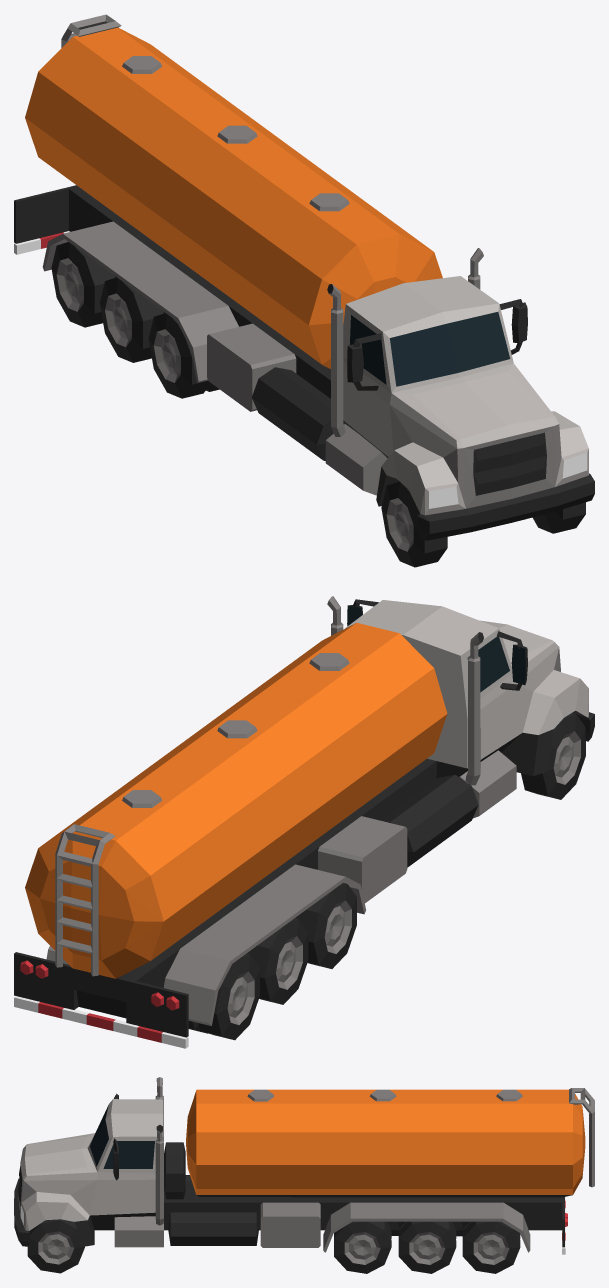
The model's file is car-truck-tanker.glb.
The picture shows the model from 3 angles, top to bottom: view 1: azimuth 30°, elevation 25°; view 2: azimuth 150°, elevation 25°; view 3: azimuth 270°, elevation 25°; orthographic projection. The views are drawn at different scales.
Parts seen in each view (by area): view 1: car-truck-tanker-base, car-truck-tanker-wheel_BR2, car-truck-tanker-wheel_BR3, car-truck-tanker-wheel_BR1, car-truck-tanker-wheel_FR, car-truck-tanker-wheel_FL; view 2: car-truck-tanker-base, car-truck-tanker-wheel_BR1, car-truck-tanker-wheel_BR2, car-truck-tanker-wheel_BR3, car-truck-tanker-wheel_FR; view 3: car-truck-tanker-base, car-truck-tanker-wheel_BL2, car-truck-tanker-wheel_BL3, car-truck-tanker-wheel_BL1, car-truck-tanker-wheel_FL.
Part boxes in pixels (x1,y1,x2,y2): car-truck-tanker-base: (14,14,594,540); car-truck-tanker-wheel_BR2: (99,277,164,362); car-truck-tanker-wheel_BR3: (51,242,116,327); car-truck-tanker-wheel_BR1: (148,313,219,398); car-truck-tanker-wheel_FR: (381,481,447,567); car-truck-tanker-wheel_FL: (532,502,585,533); car-truck-tanker-base: (14,596,594,1048); car-truck-tanker-wheel_BR1: (295,882,356,968); car-truck-tanker-wheel_BR2: (247,918,308,1004); car-truck-tanker-wheel_BR3: (188,953,259,1040); car-truck-tanker-wheel_FR: (521,713,585,799); car-truck-tanker-base: (14,1077,594,1254); car-truck-tanker-wheel_BL2: (398,1221,456,1273); car-truck-tanker-wheel_BL3: (462,1221,520,1273); car-truck-tanker-wheel_BL1: (334,1221,391,1273); car-truck-tanker-wheel_FL: (27,1219,84,1273).
Bounding box in the file's own units: 2.57 × 3.2 × 10.9.
Materials: 1 (1 with a texture image).
